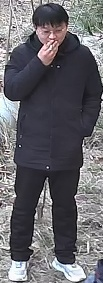smoking: (30, 3, 70, 66)
